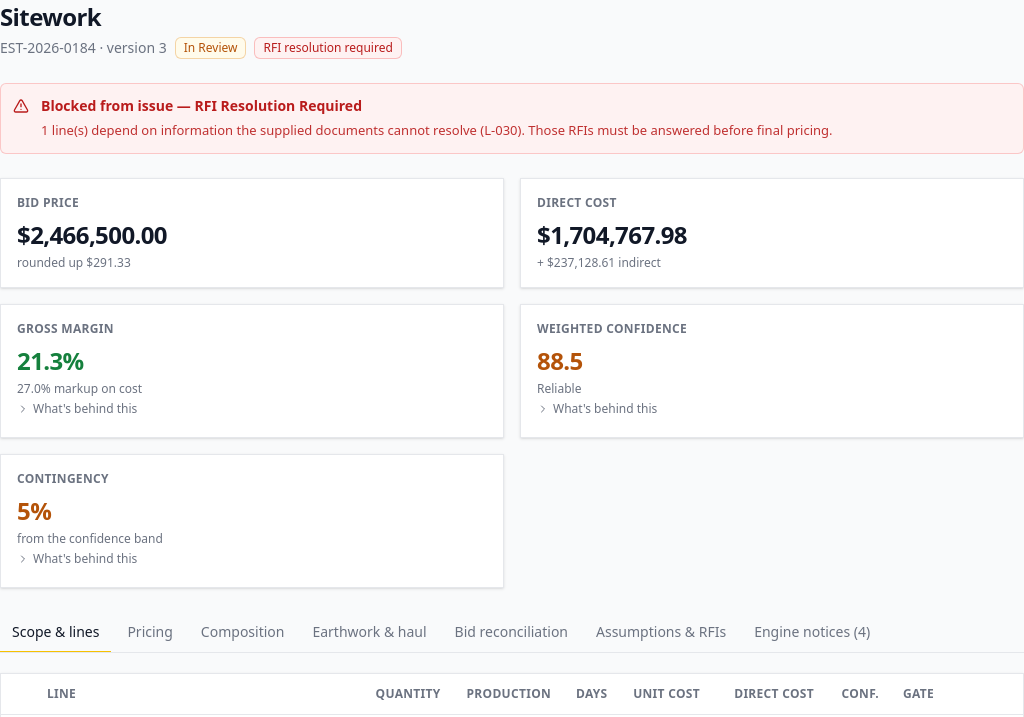
Test case: estimate workspace › keeps every cost bucket separately visible (RULE-001)
The image size is (1024, 717).
Click the tab "Pricing".
click(150, 632)  # box [115,612,185,652]
(page scrolled)
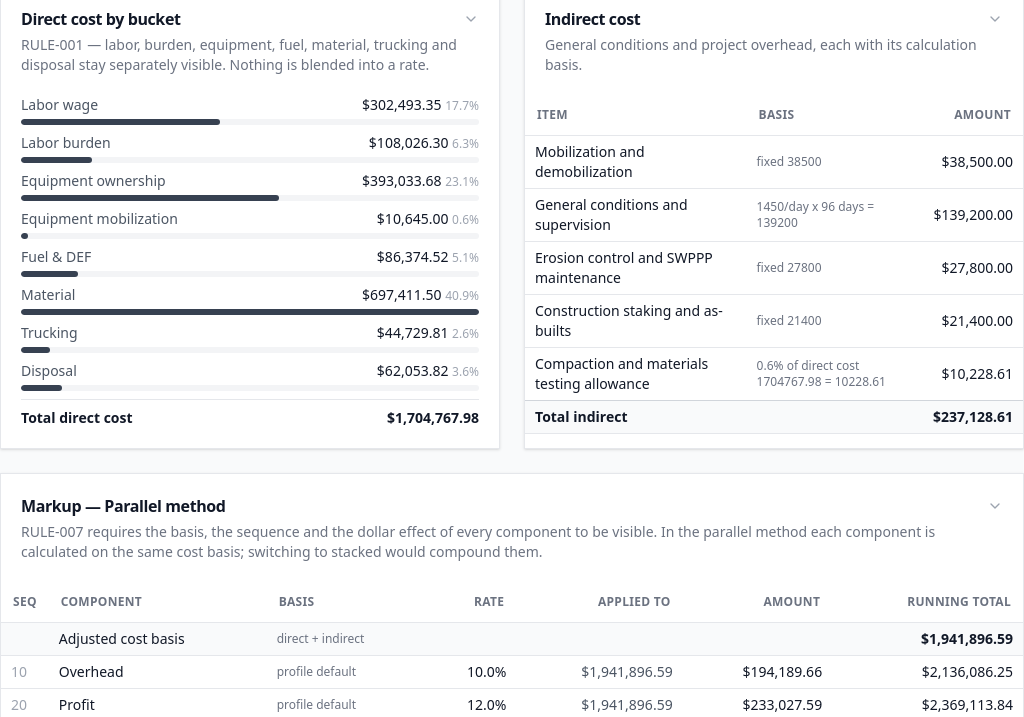
Expected: the text "Labor wage" is shown, [21,95,98,115]
Expected: the text "Labor burden" is shown, [21,133,111,153]
Expected: the text "Equipment ownership" is shown, [21,171,166,191]
